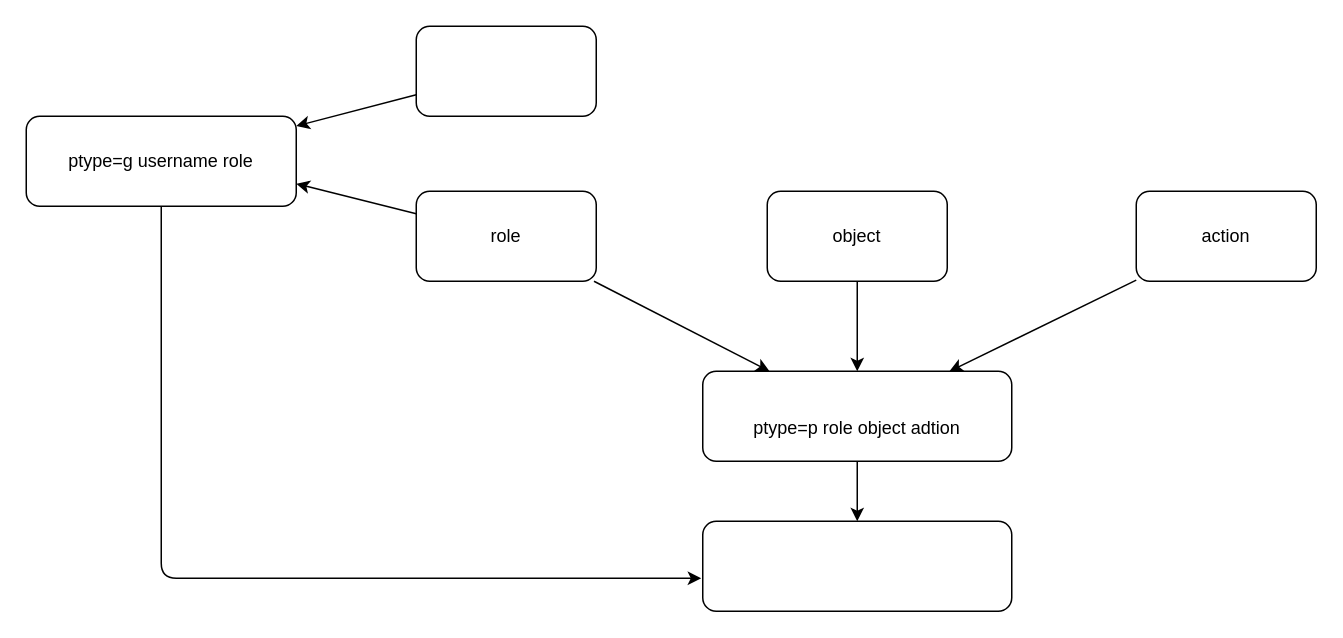
Some shapes in this 1343 by 638 pixel diagram are drawn without their labels. The shapes that lost their labels are listed below. From the top down, each one's centre as x and y in pixels, then its label:
(505,70): user
(856,565): casbin_rule ptype role object adtion
